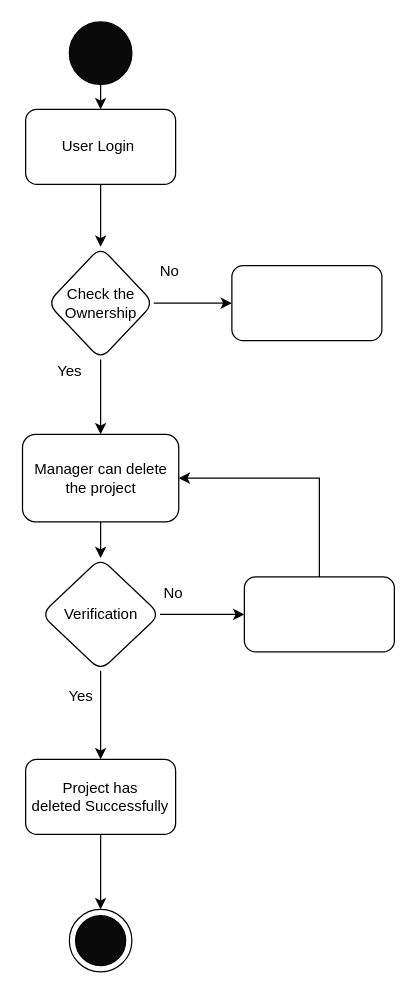
The diagram is 416 pixels wide and 994 high, and some of its shapes have lost their labels. Each missing label, with the centre of its shape:
Show Database Error: the point at 318,614
Show error Only Manager has the authority: the point at 306,302
